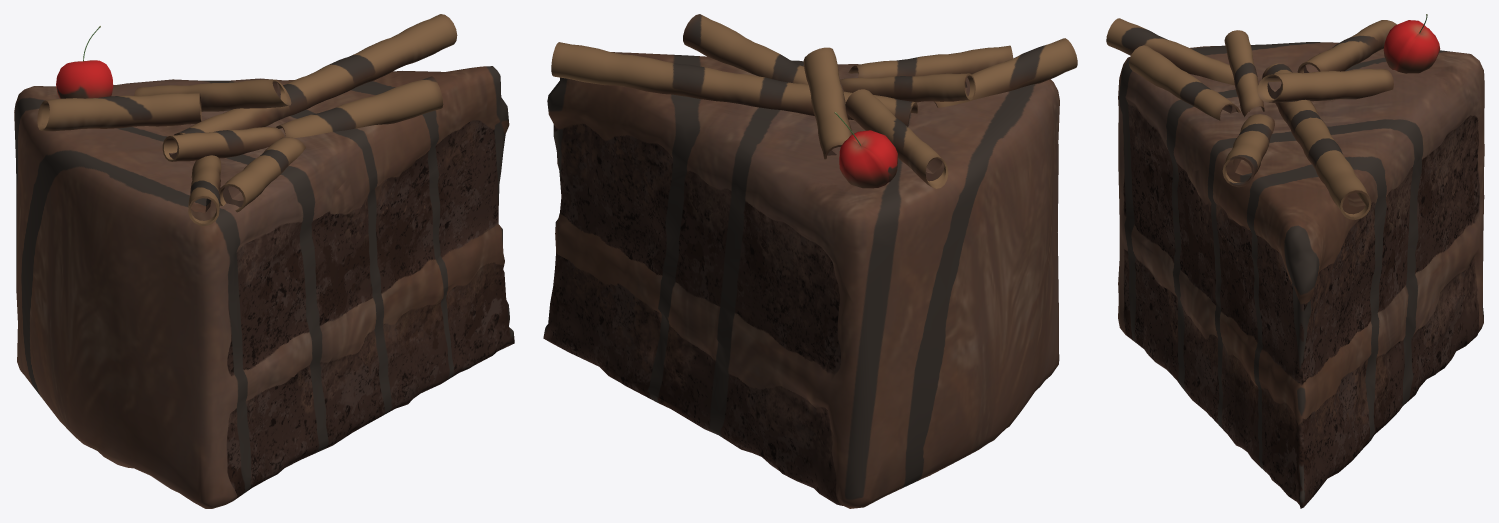
File: Chocolate Cake.fbx
3 renders of one model, left to right at view 1: azimuth 30°, elevation 25°; view 2: azimuth 150°, elevation 25°; view 3: azimuth 270°, elevation 25°, orthographic. The views are drawn at different scales.
Visible parts, largest first — view 1: Dessert_low; view 2: Dessert_low; view 3: Dessert_low.
Boxes of the visible parts, bbox=[...] form: Dessert_low: bbox=[14, 14, 514, 508]; Dessert_low: bbox=[543, 14, 1077, 508]; Dessert_low: bbox=[1106, 14, 1484, 508].
Size of the model in its own units: 167 by 128 by 130.
